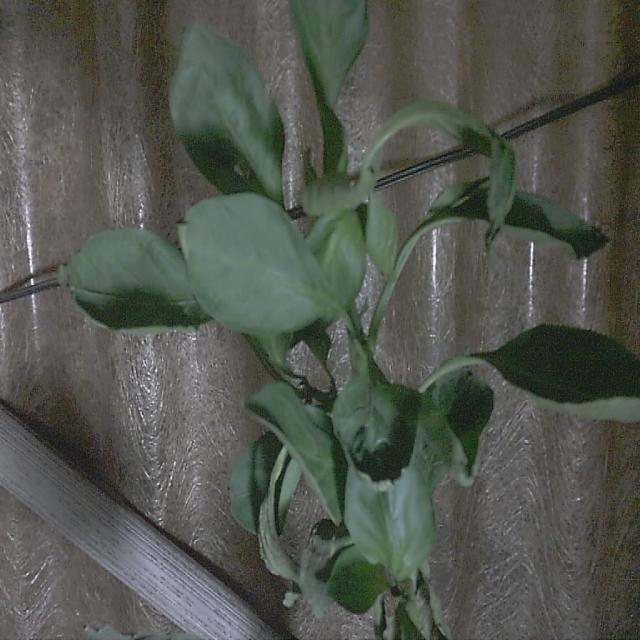Leaf: (179, 194, 341, 334), (170, 24, 283, 201), (59, 229, 210, 334), (247, 383, 346, 523), (345, 465, 434, 580), (502, 192, 607, 258), (327, 545, 390, 614)
